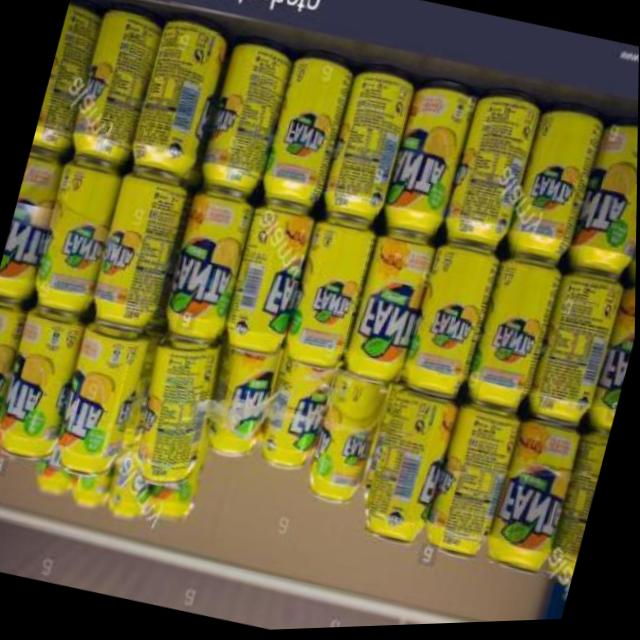Drinks: (126, 11, 233, 186), (440, 82, 544, 258), (503, 97, 607, 273), (354, 388, 461, 555), (256, 44, 358, 216), (378, 73, 480, 245), (65, 0, 166, 173), (196, 31, 298, 201), (317, 60, 419, 230), (422, 403, 523, 569), (482, 419, 583, 585), (524, 269, 625, 435), (125, 334, 228, 495), (50, 319, 152, 481), (88, 174, 189, 337), (462, 257, 563, 419), (158, 186, 258, 348), (221, 199, 321, 361), (401, 245, 501, 405), (283, 214, 380, 374), (342, 228, 439, 388), (29, 158, 125, 319), (0, 304, 88, 465), (565, 114, 638, 286), (303, 371, 390, 511), (31, 0, 106, 155), (0, 148, 67, 303), (254, 357, 337, 480), (202, 347, 281, 465), (0, 294, 31, 448)
